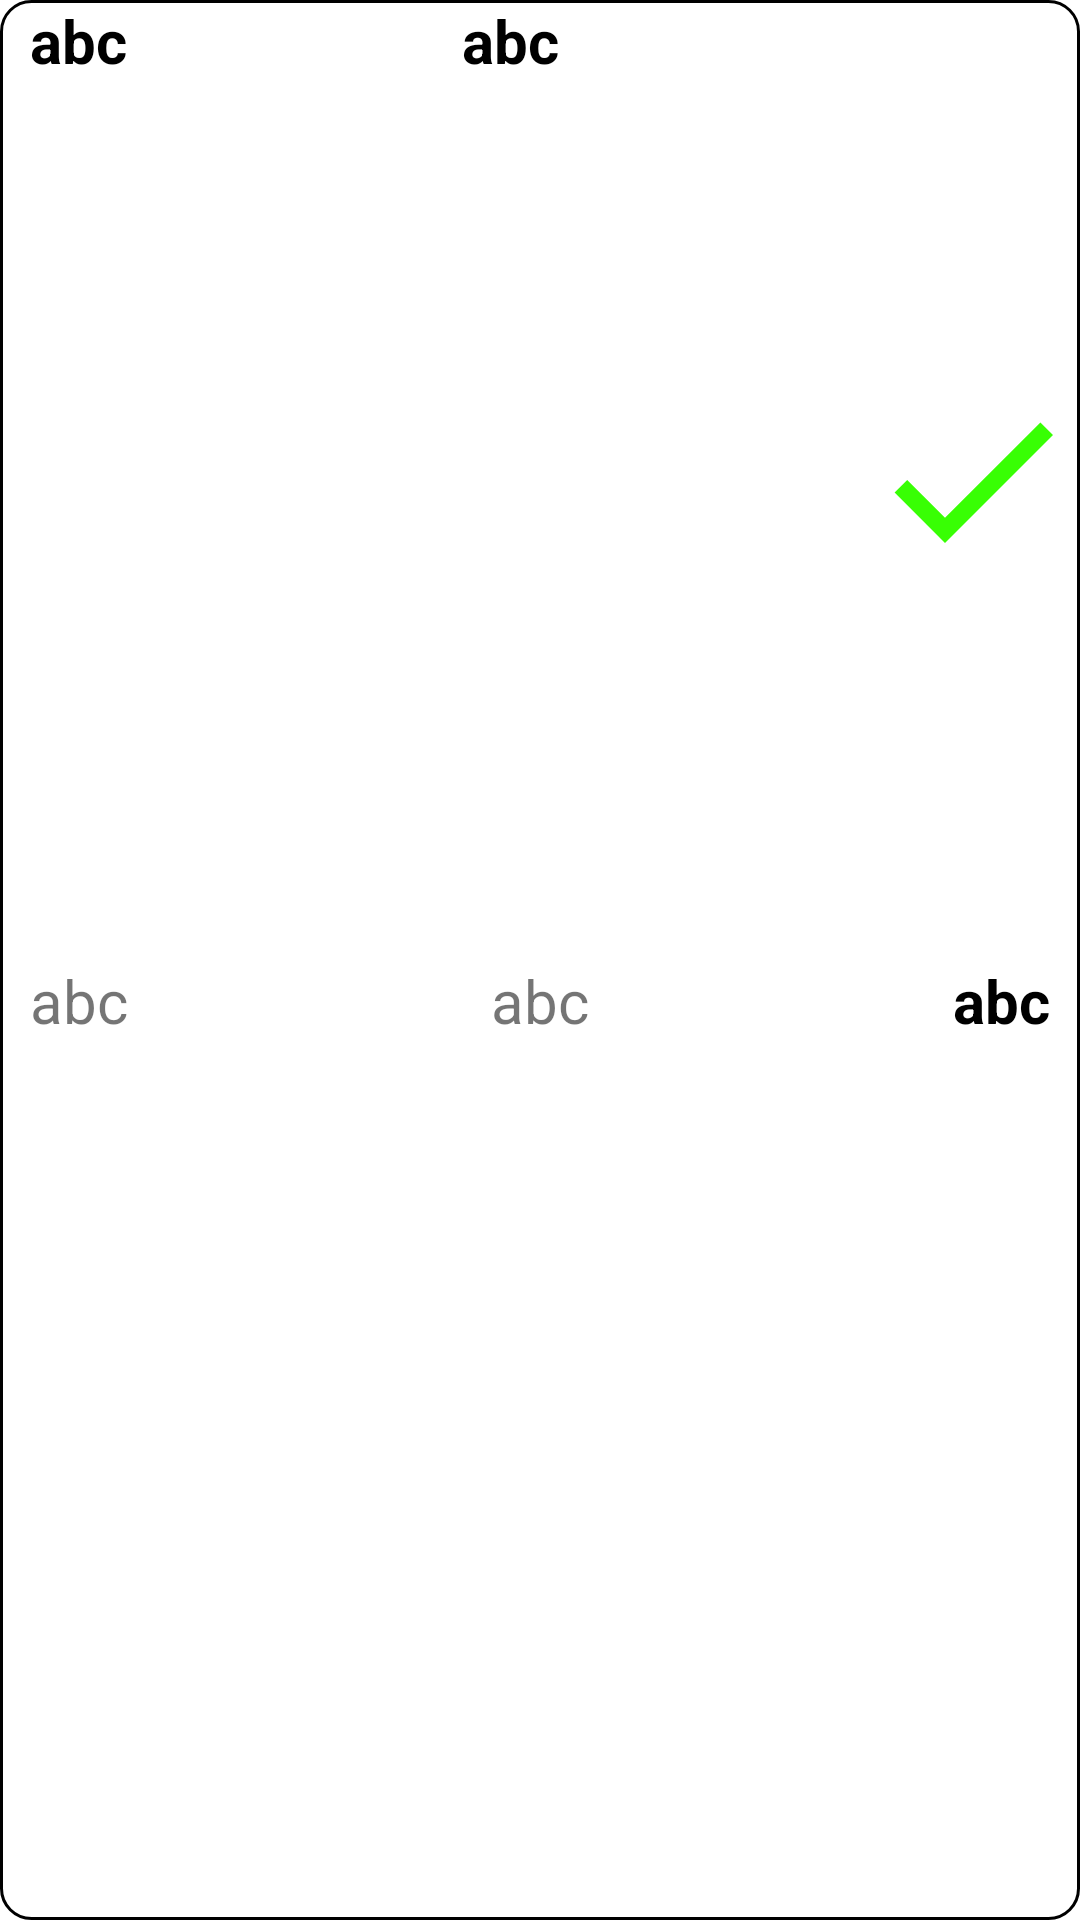

Screen size 1080 x 1920. Icon name, then its center in pixels as point (x, y):
done: point (973, 482)
